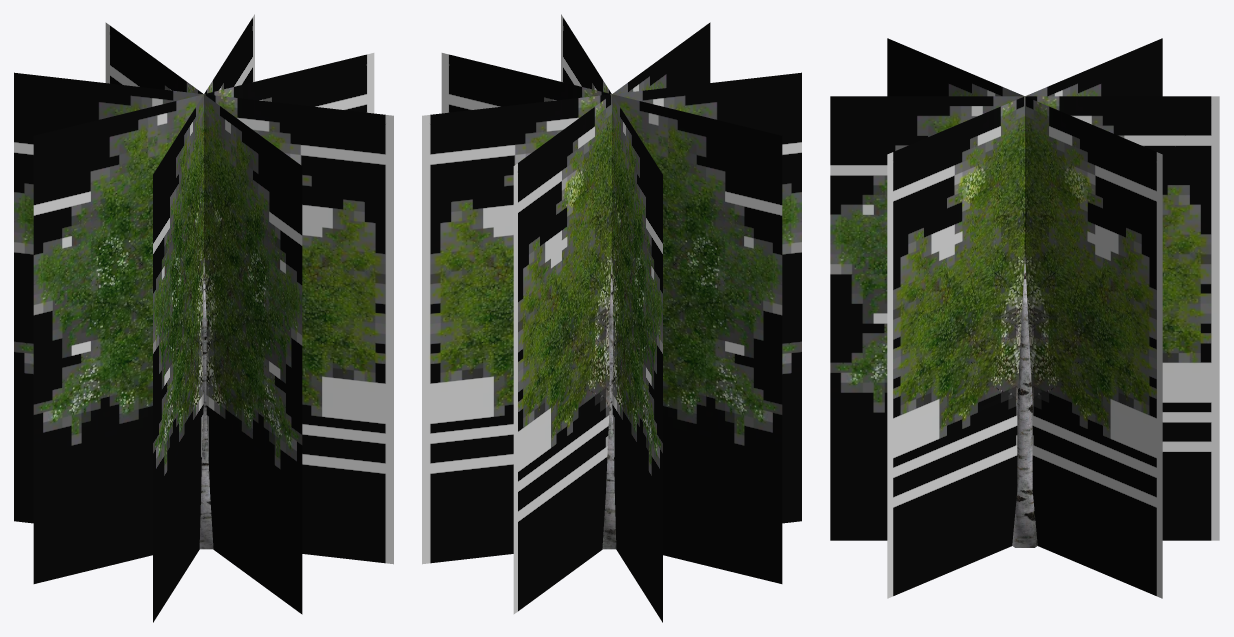
File: psx_birch_tree.glb
3 renders of one model, left to right at view 1: azimuth 30°, elevation 25°; view 2: azimuth 150°, elevation 25°; view 3: azimuth 270°, elevation 25°, orthographic.
Visible parts, largest first — view 1: birch-2; view 2: birch-2; view 3: birch-2.
Boxes of the visible parts, x1,y1,x2,y2 form: birch-2: (14, 14, 393, 622); birch-2: (422, 14, 801, 622); birch-2: (830, 38, 1219, 598).
Bounding box in the file's own units: 16.14 × 20.32 × 16.14.
2 materials, 2 textured.
